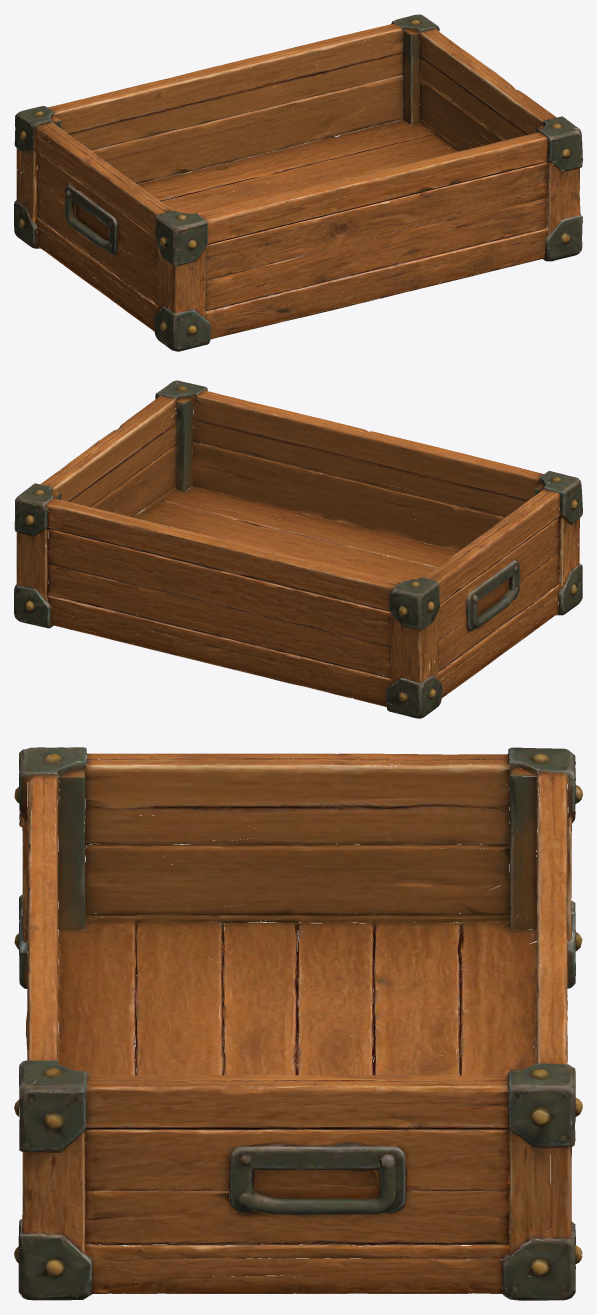
File: crate_body.glb
3 views of the same model, one above another, from view 1: azimuth 30°, elevation 25°; view 2: azimuth 150°, elevation 25°; view 3: azimuth 270°, elevation 25° (orthographic). The views are drawn at different scales.
Parts seen in each view (by area): view 1: crate_body; view 2: crate_body; view 3: crate_body.
Part boxes in pixels (<box>): crate_body: <box>14,14,582,351</box>; crate_body: <box>14,380,582,718</box>; crate_body: <box>14,747,582,1300</box>.
Bounding box in the file's own units: 0.9001 × 0.27 × 0.6202.
Materials: 1 (1 with a texture image).
